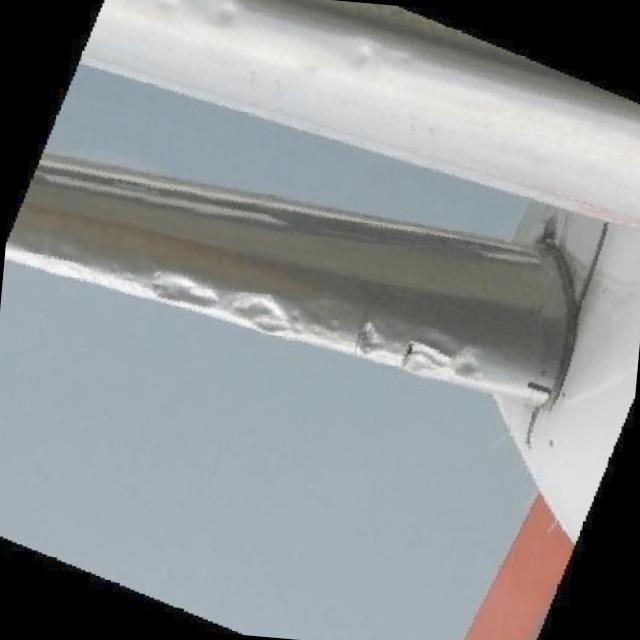dent: (144, 262, 226, 314), (228, 284, 298, 341), (398, 324, 451, 379), (354, 311, 392, 360), (212, 0, 251, 38), (451, 347, 479, 383), (348, 42, 376, 72)
